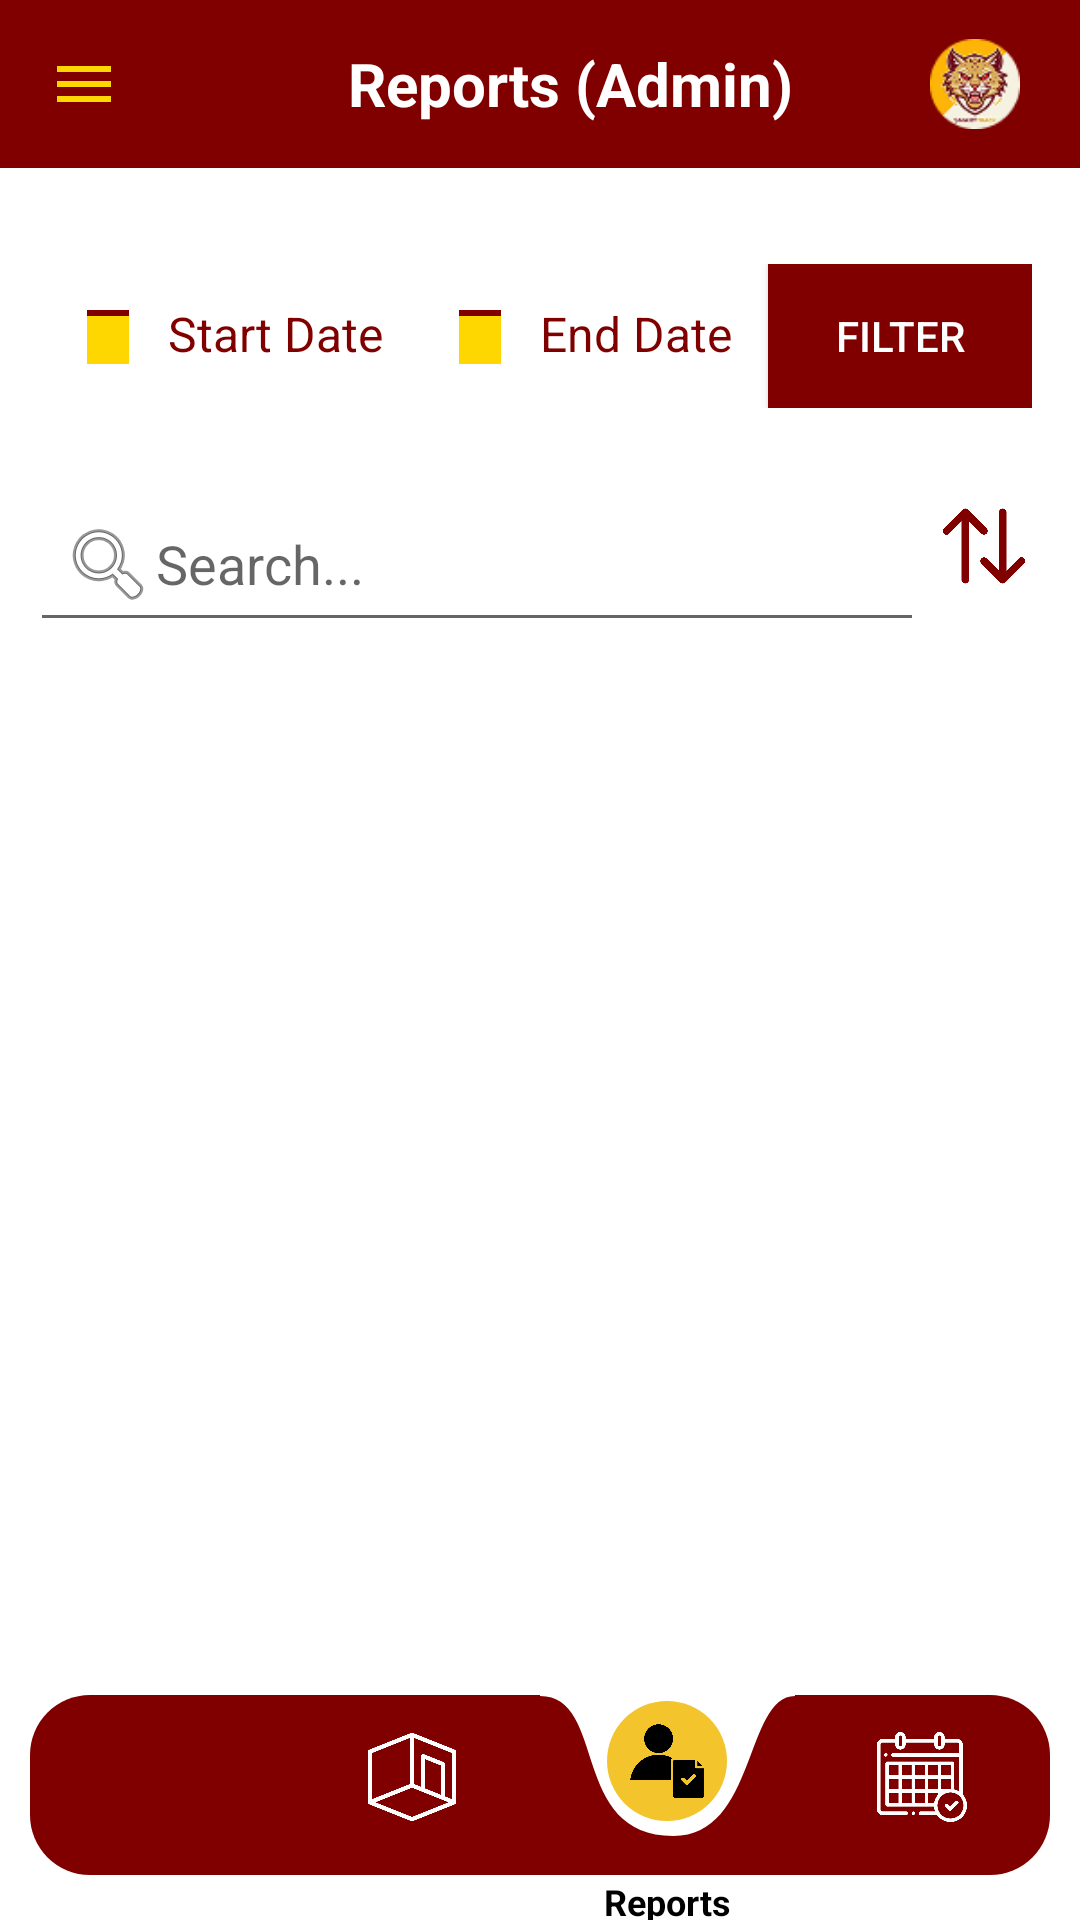

Where icons sit on this 1080×1920 app screen, as (x1, y1, x2, y2):
Menu Icon: (57, 66, 111, 102)
Rooms: (368, 1733, 456, 1821)
Schedule: (877, 1732, 967, 1822)
Sort: (943, 508, 1025, 584)
